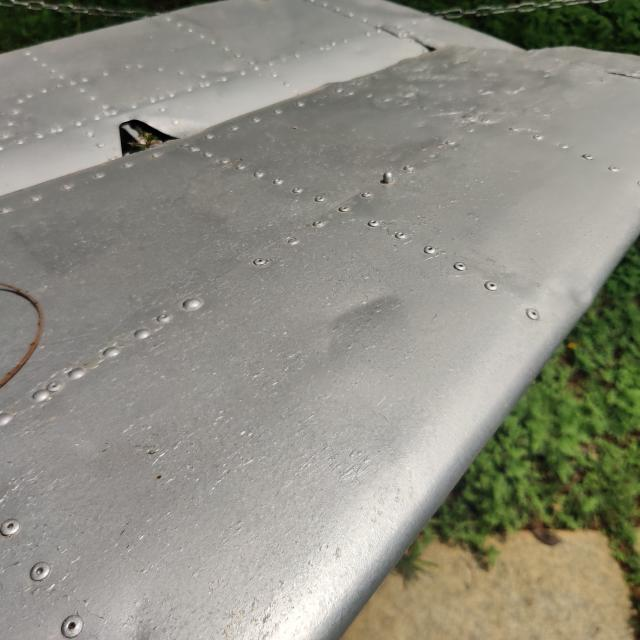dent: (298, 260, 426, 365), (540, 258, 625, 341)
